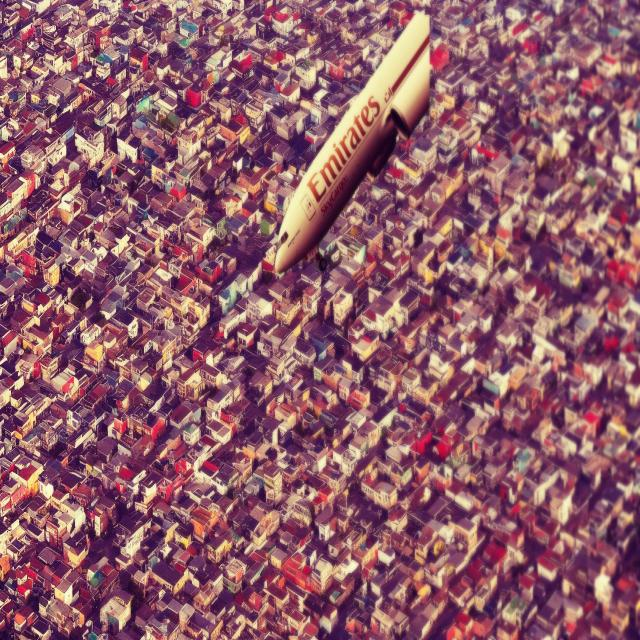airplane: (273, 9, 431, 278)
